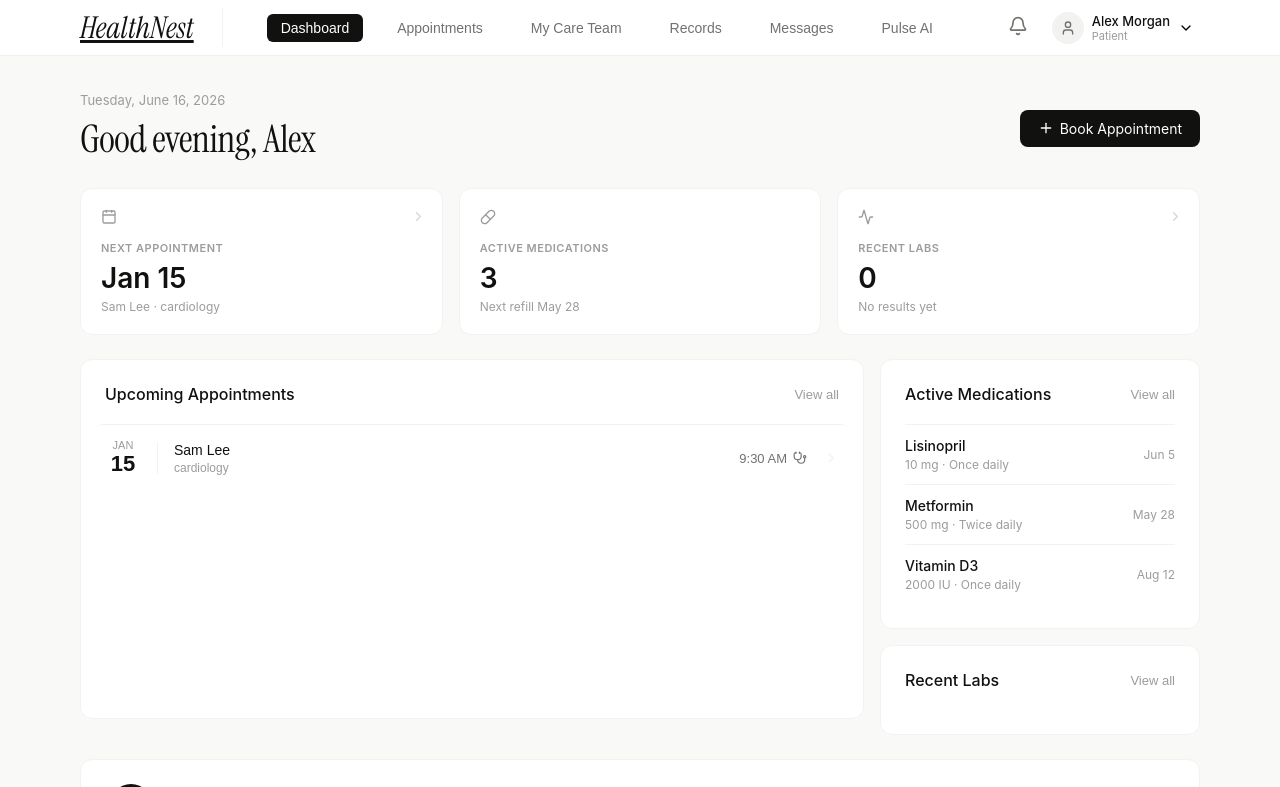
Test case: PatientDashboard › upcoming appointment row opens the appointment details modal
Step 1. Click the text "Sam Lee" → click(202, 450), box [174,442,230,458]
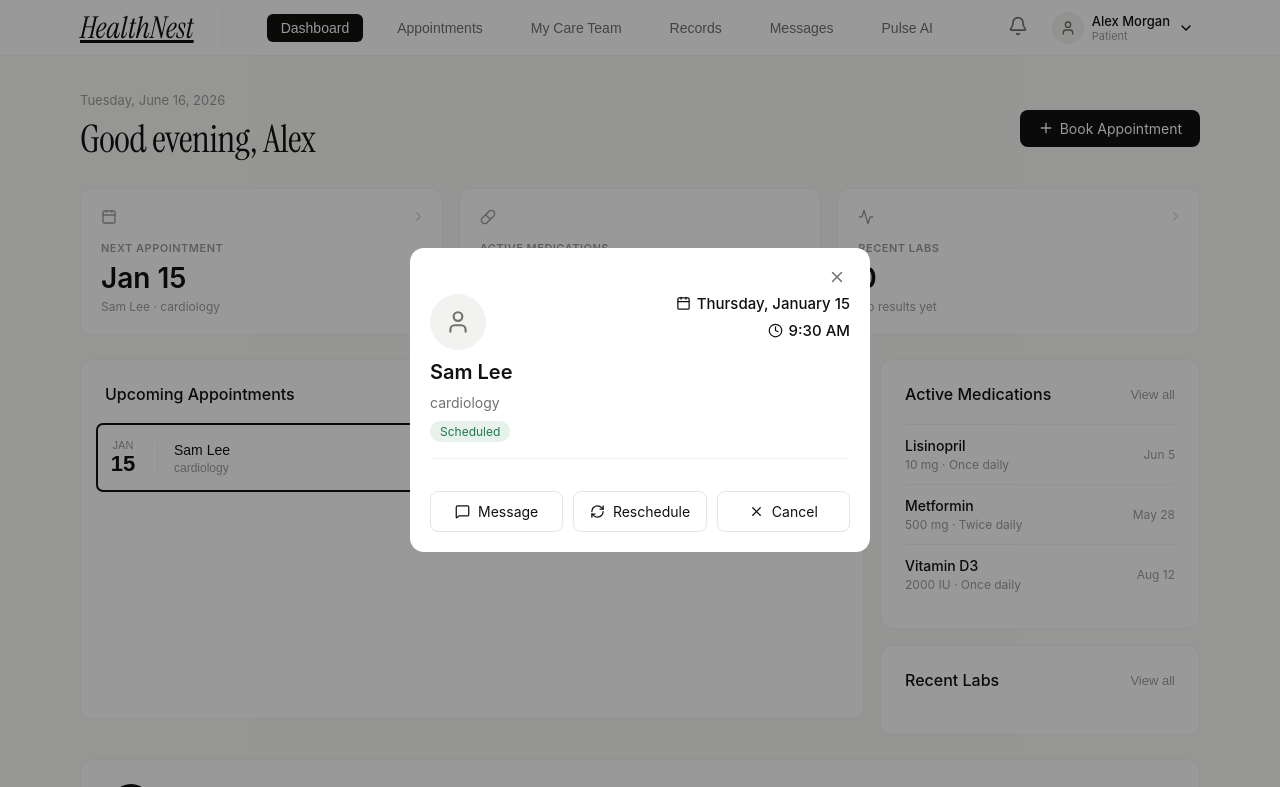
Expected: the button "Reschedule" is shown, [573,491,707,532]
